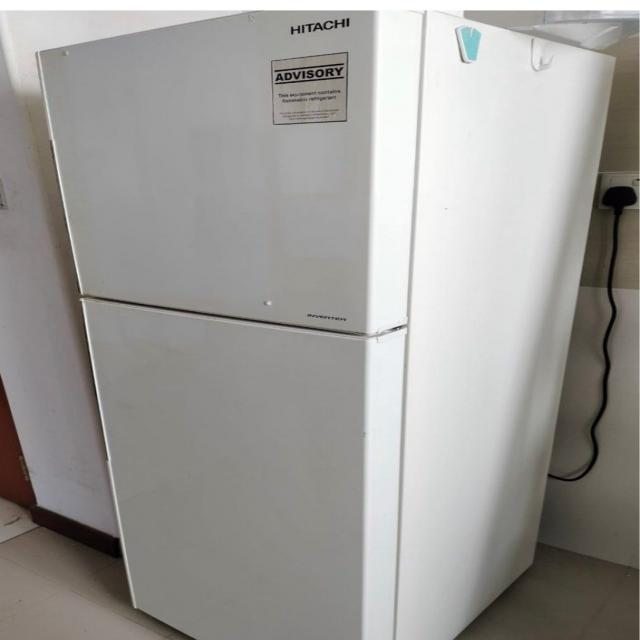refrigerator: (35, 7, 426, 640)
